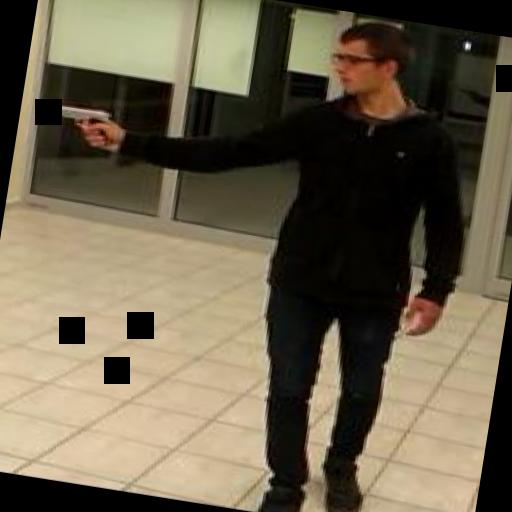Handgun: (38, 96, 118, 148)
